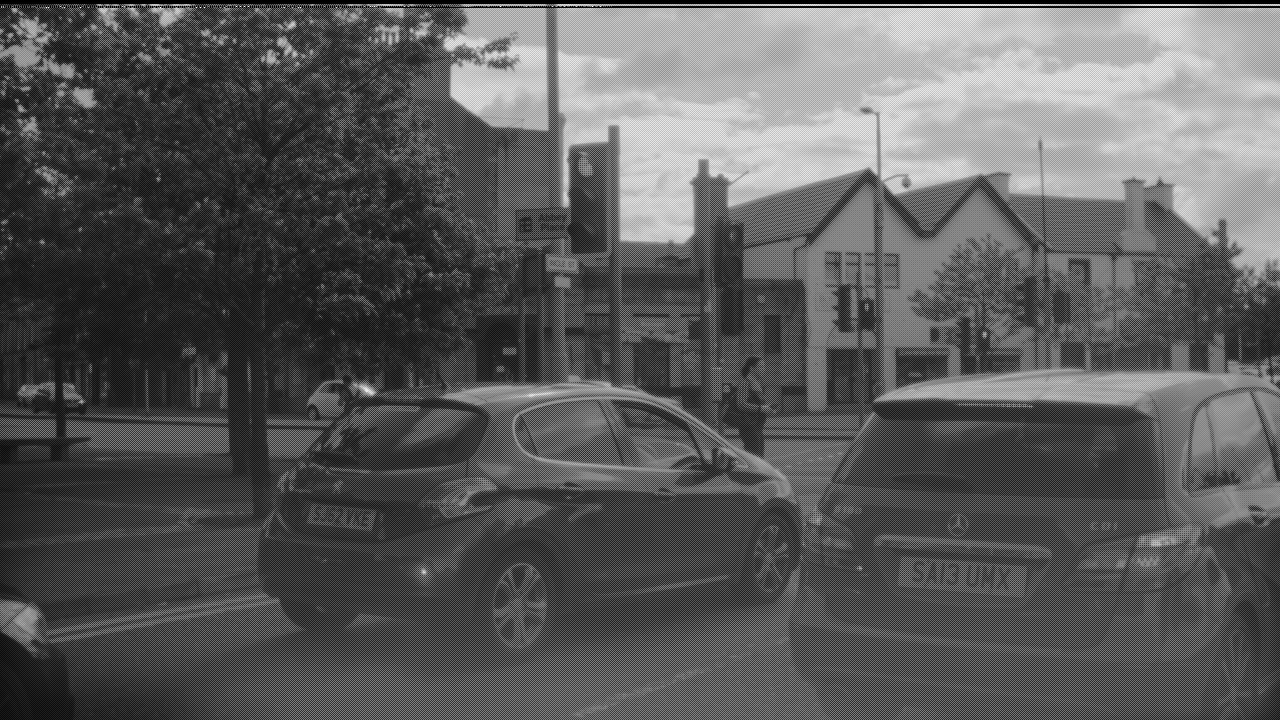pole: (713, 1, 736, 370), (565, 148, 579, 410), (658, 116, 672, 376), (397, 103, 409, 384), (230, 130, 243, 359)
